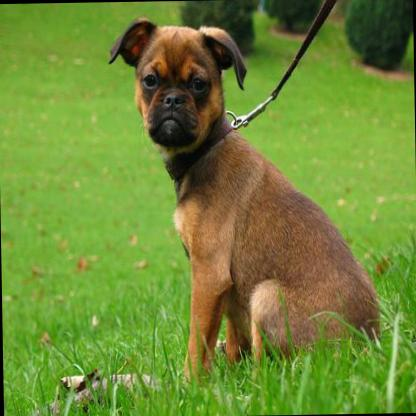Brabancon_griffon: (107, 10, 381, 384)
